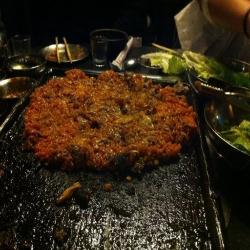bolonese_pasta: (23, 71, 202, 177)
salad: (156, 45, 250, 96)
